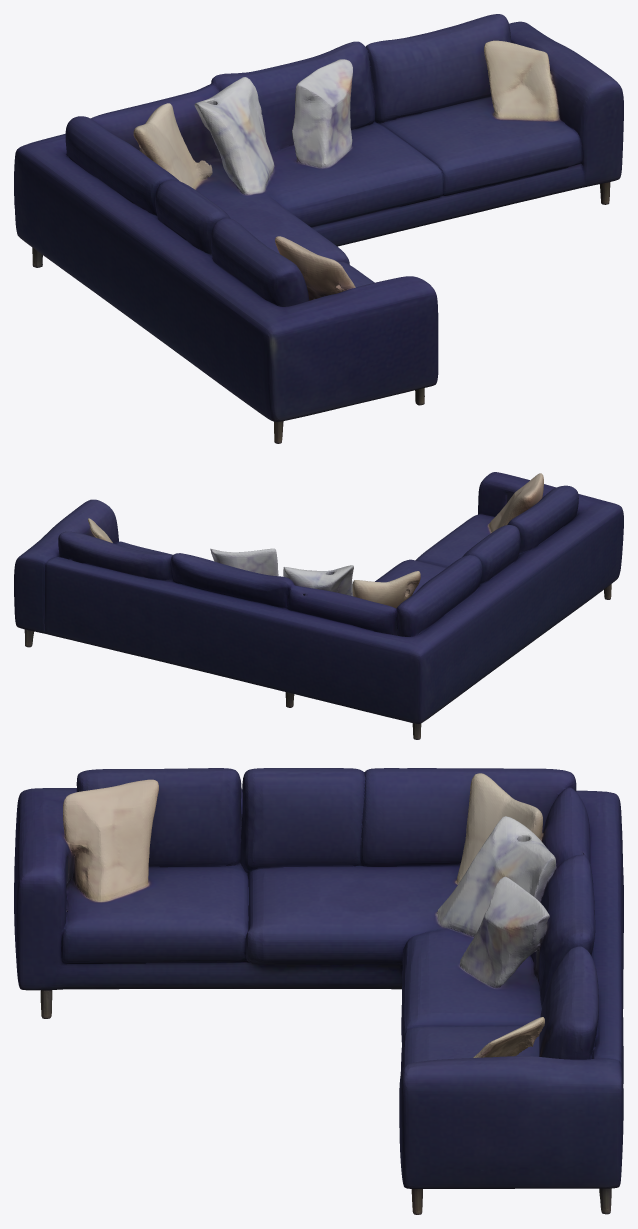
Rendered from ours.glb.
3 views of the same model, one above another, from view 1: azimuth 30°, elevation 25°; view 2: azimuth 150°, elevation 25°; view 3: azimuth 270°, elevation 25° (orthographic). The views are drawn at different scales.
Visible parts, largest first — view 1: world; view 2: world; view 3: world.
Part boxes in pixels (<box>): world: <box>14,14,623,443</box>; world: <box>14,472,623,739</box>; world: <box>14,768,623,1214</box>.
Size of the model in its own units: 0.9992 by 0.2976 by 0.8659.
